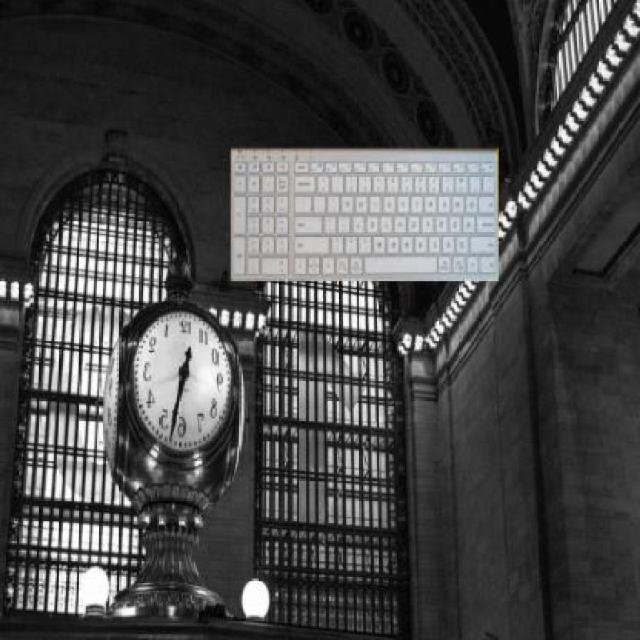keyboard: (225, 137, 507, 284)
